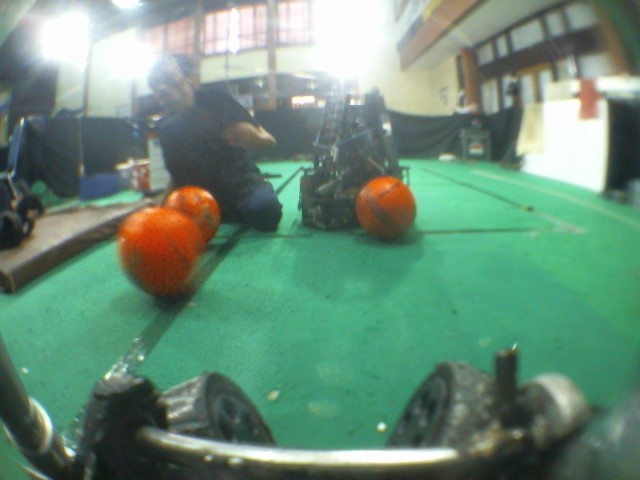ball: (117, 205, 206, 305), (350, 175, 421, 245)
